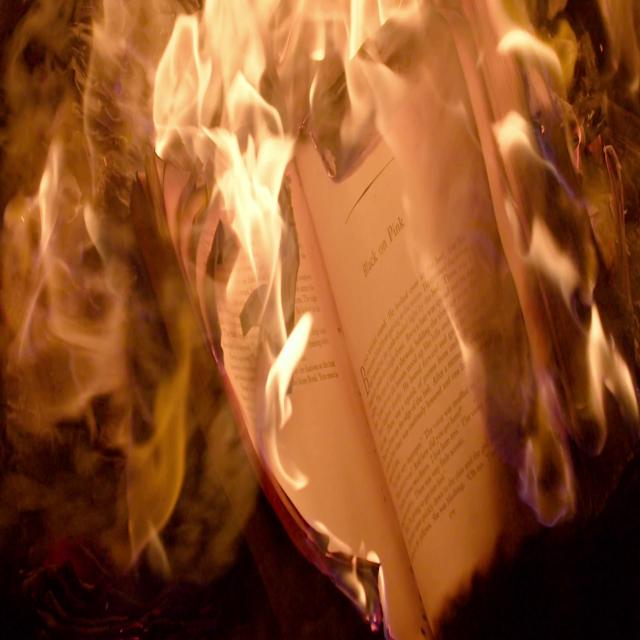Fire: (0, 0, 640, 640)
